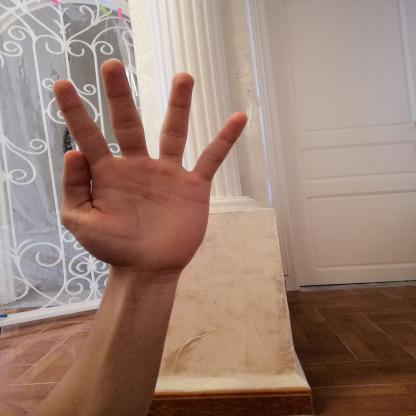SHEEN: (38, 50, 258, 284)
